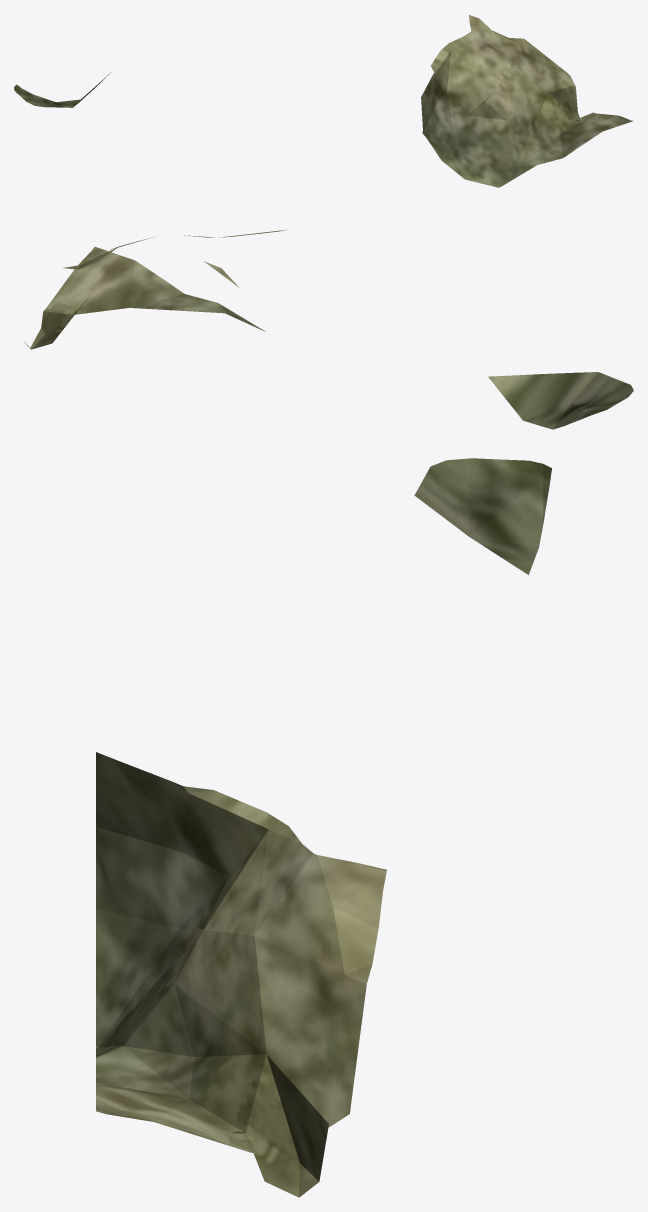
3 renders of one model, top to bottom at view 1: azimuth 30°, elevation 25°; view 2: azimuth 150°, elevation 25°; view 3: azimuth 270°, elevation 25°, orthographic. The views are drawn at different scales.
Size of the model in its own units: 5.27 by 1.17 by 2.03.
1 material, 1 textured.
